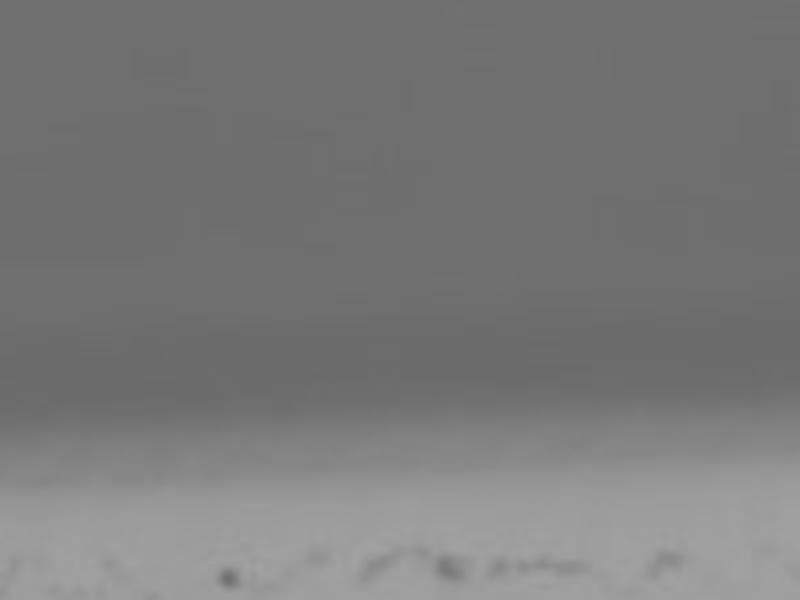defect: (646, 547, 680, 582), (299, 548, 334, 578), (436, 555, 473, 583), (482, 550, 513, 579), (378, 547, 406, 571), (216, 571, 245, 592), (408, 542, 437, 563), (559, 559, 588, 577), (361, 562, 382, 582), (533, 552, 551, 572), (98, 559, 120, 573), (512, 560, 530, 576)
